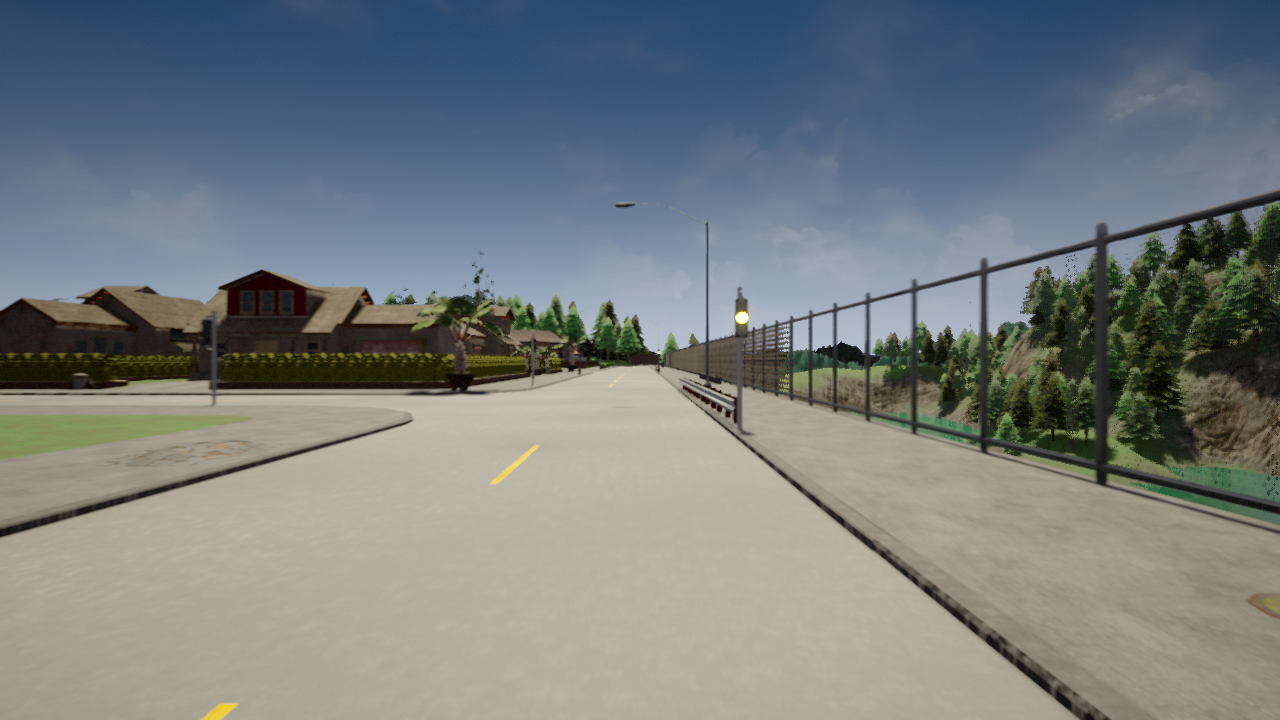yellow: (734, 296, 751, 336)
